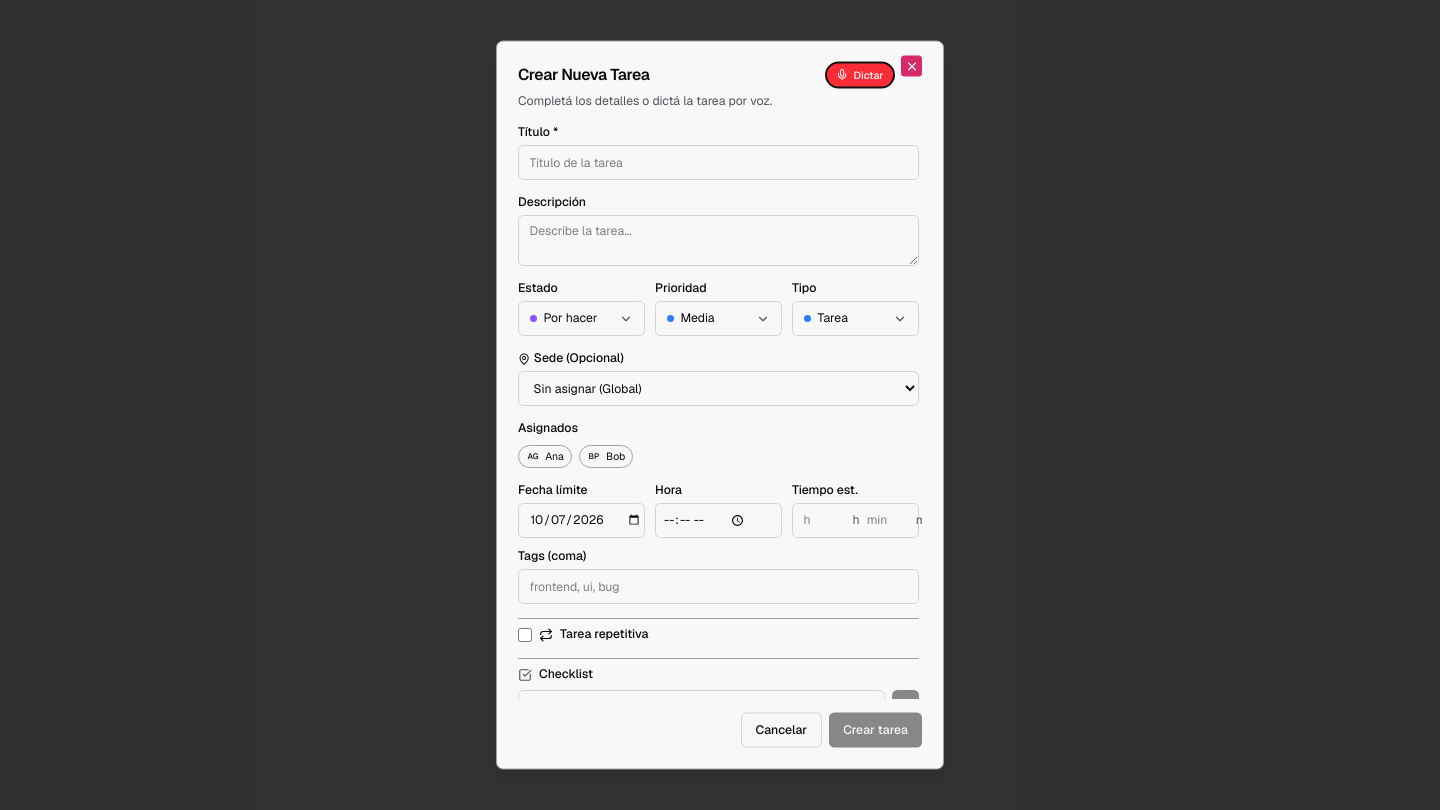
Test: CreateTaskModal › clic en assignee lo agrega a assigneeIds
Click the button "AG Ana" at (545, 456), box [518,444,572,467]
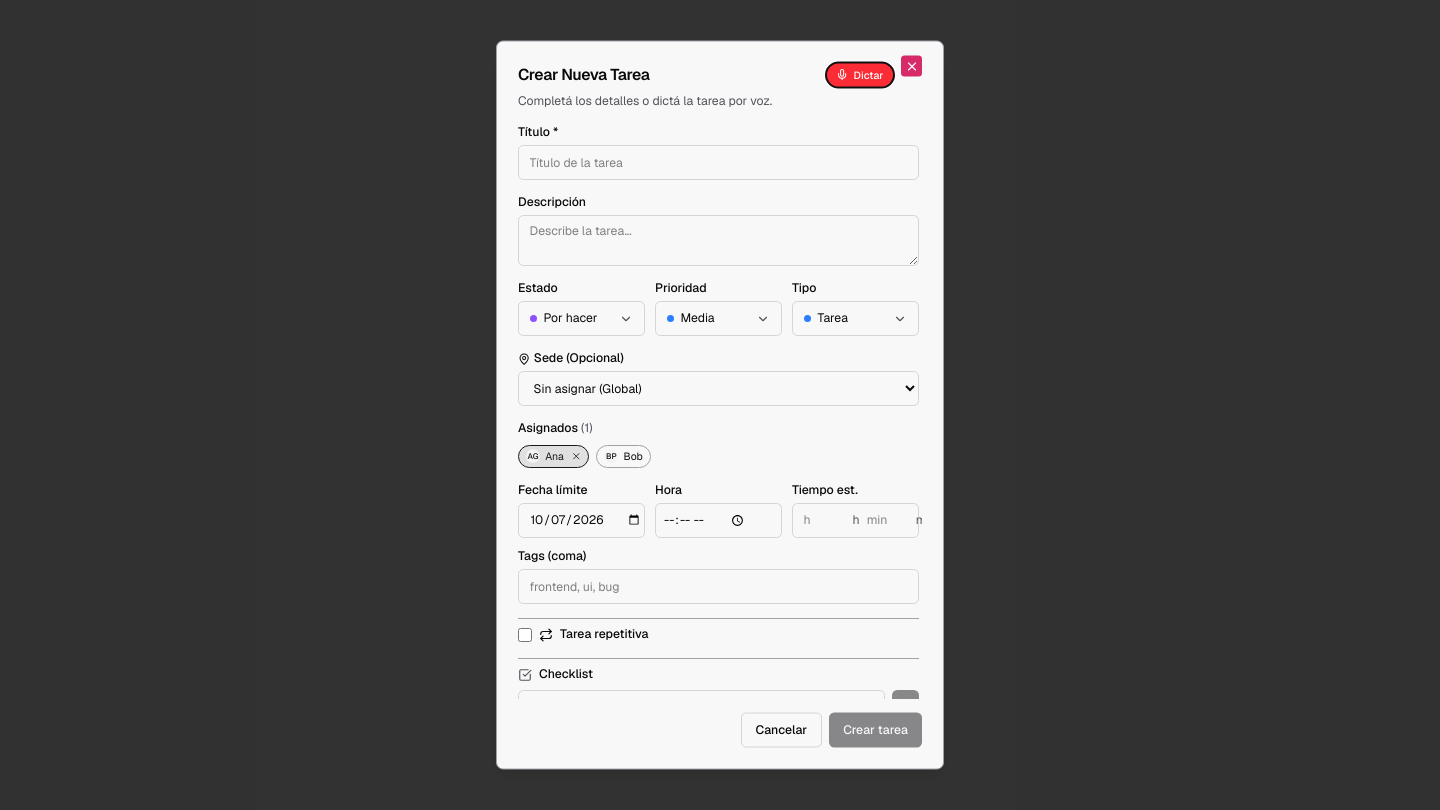
Check: the text "(1)" is shown, box [578,420,592,436]
